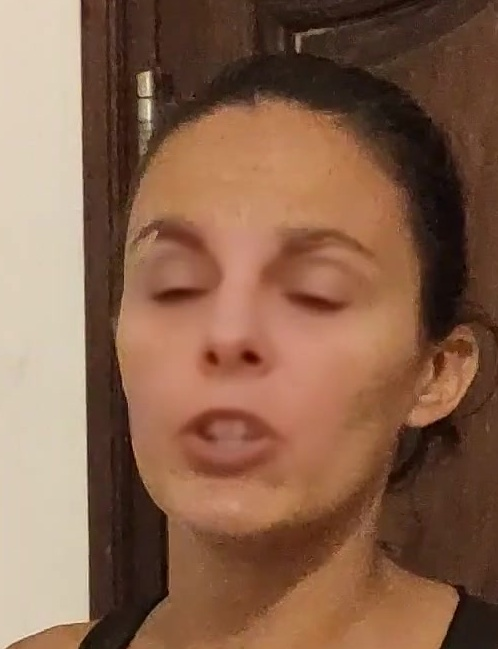eb_f: (125, 211, 387, 325)
